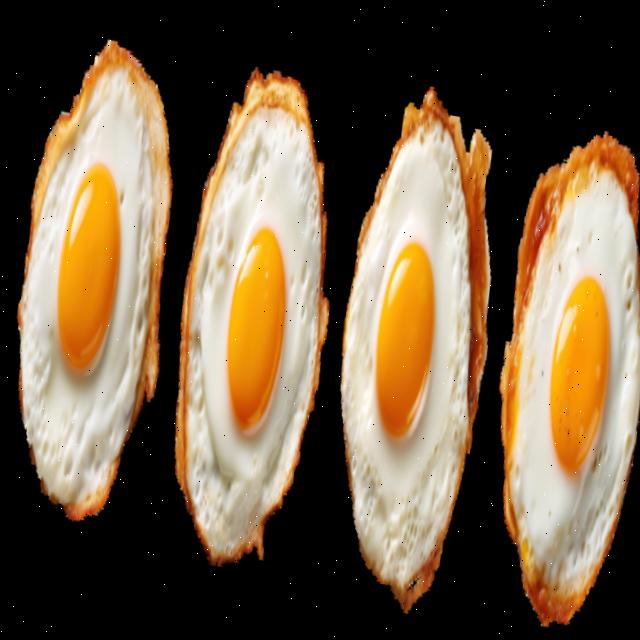Egg: (338, 84, 490, 605), (172, 71, 326, 558), (15, 41, 170, 518), (497, 129, 640, 620)
